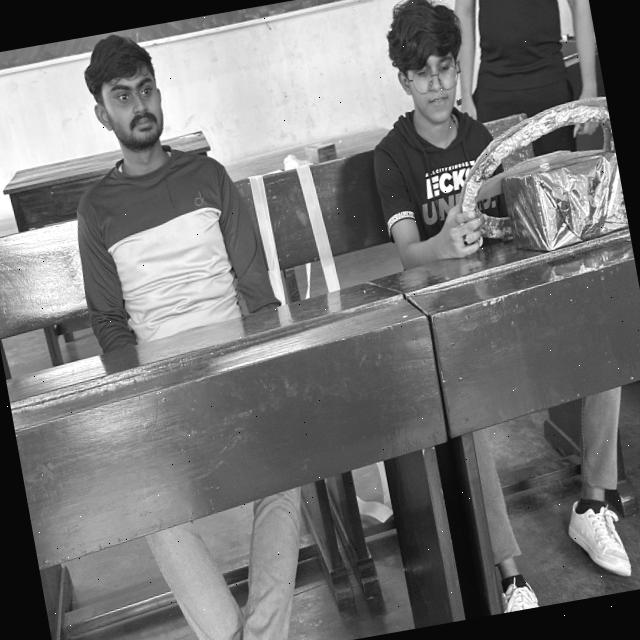Helmet: (54, 137, 284, 376), (357, 90, 532, 282)
